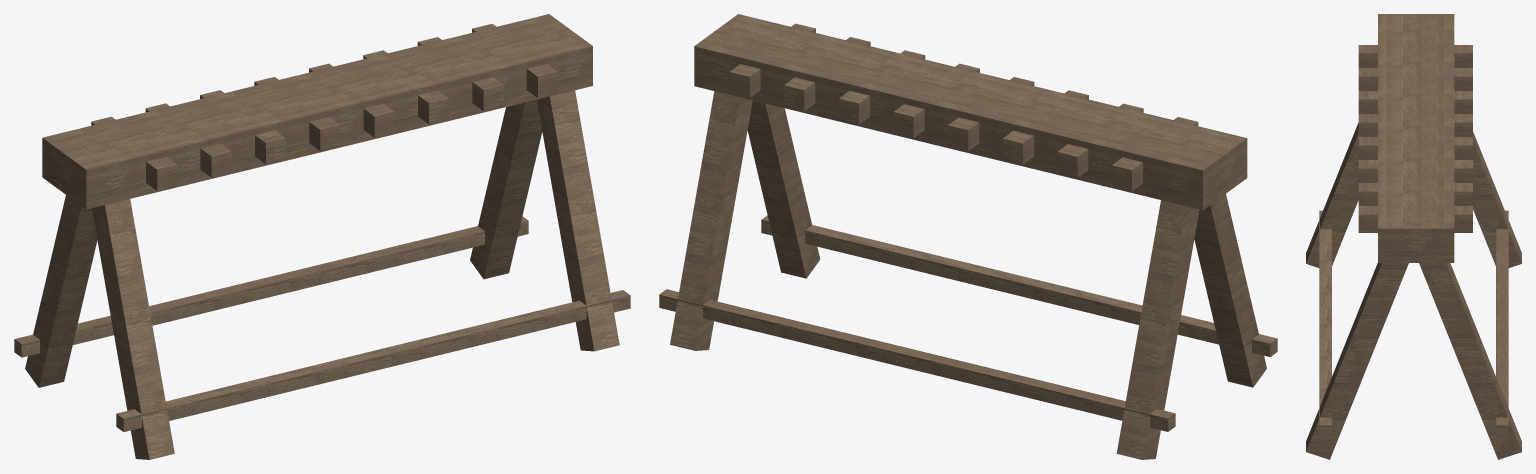
File: OU_AR_BLacksmithDesk_03_D.fbx
The picture shows the model from 3 angles, left to right: view 1: azimuth 30°, elevation 25°; view 2: azimuth 150°, elevation 25°; view 3: azimuth 270°, elevation 25°; orthographic projection. The views are drawn at different scales.
Visible parts, largest first — view 1: Box061; view 2: Box061; view 3: Box061.
Boxes of the visible parts, box(x1,y1,x2,y2) form: Box061: box(14, 14, 630, 459); Box061: box(659, 14, 1277, 459); Box061: box(1306, 14, 1521, 459).
Bounding box in the file's own units: 162 × 83.24 × 68.51.
Materials: 1 (1 with a texture image).
